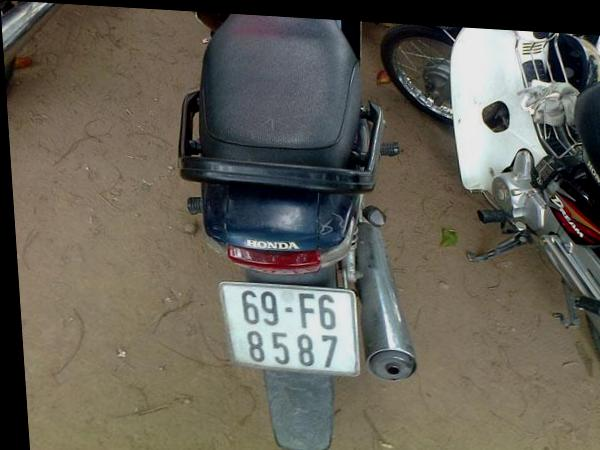License_Plate: (217, 278, 362, 377)
